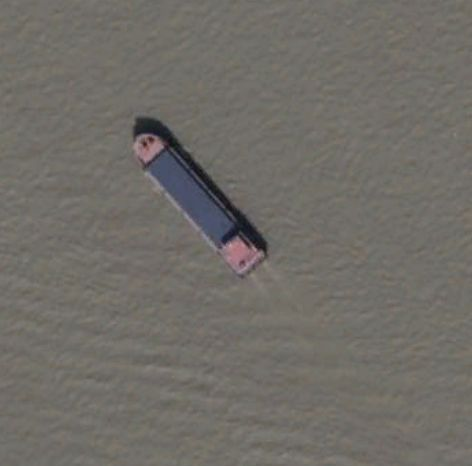boat: (131, 126, 271, 282)
